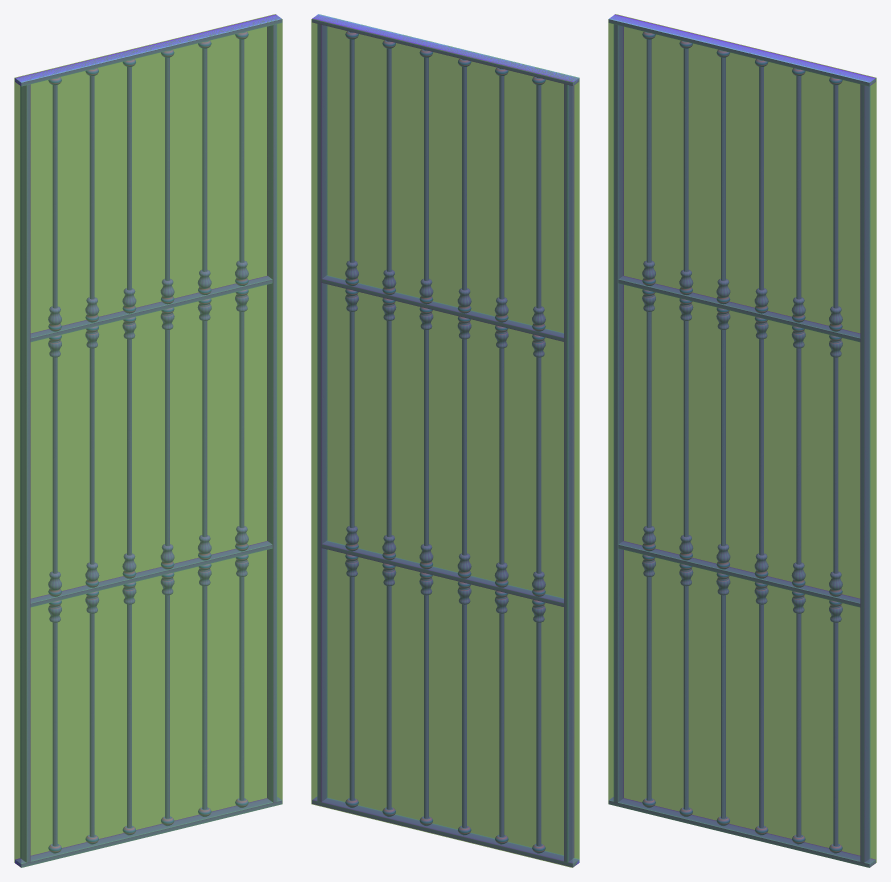
File: DoorCage_02.fbx
The picture shows the model from 3 angles, left to right: view 1: azimuth 30°, elevation 25°; view 2: azimuth 150°, elevation 25°; view 3: azimuth 330°, elevation 25°; orthographic projection.
Visible parts, largest first — view 1: DoorCage_02_col_01, DoorCage_02_LOD0; view 2: DoorCage_02_col_01, DoorCage_02_LOD0; view 3: DoorCage_02_col_01, DoorCage_02_LOD0.
Part boxes in pixels (x1,y1,x2,y2): DoorCage_02_col_01: [14, 14, 282, 867]; DoorCage_02_LOD0: [15, 14, 282, 867]; DoorCage_02_col_01: [311, 15, 579, 867]; DoorCage_02_LOD0: [312, 14, 579, 867]; DoorCage_02_col_01: [608, 14, 876, 867]; DoorCage_02_LOD0: [608, 14, 875, 867].
Size of what is drawn, in the model's own units: 103 by 295 by 4.77.
